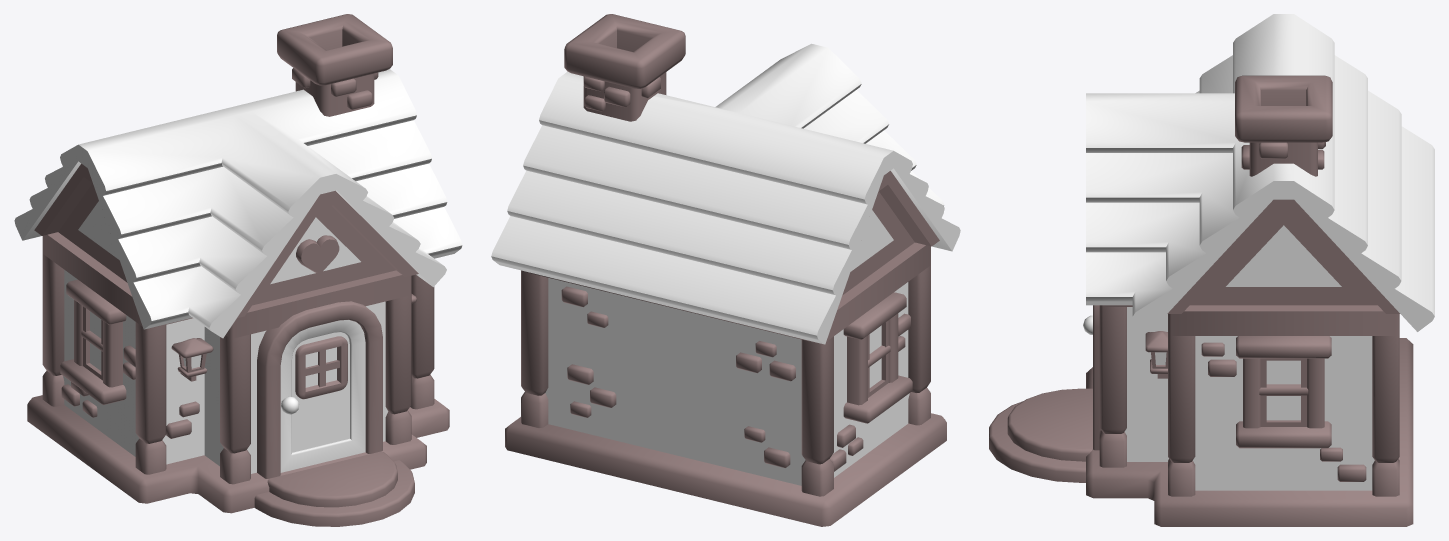
The model's file is family-house.glb.
3 renders of one model, left to right at view 1: azimuth 30°, elevation 25°; view 2: azimuth 150°, elevation 25°; view 3: azimuth 270°, elevation 25°, orthographic. The views are drawn at different scales.
Visible parts, largest first — view 1: house; view 2: house; view 3: house.
Part boxes in pixels (left/top/right/bottom): house: left=14, top=14, right=462, bottom=526; house: left=491, top=14, right=960, bottom=526; house: left=989, top=14, right=1434, bottom=526.
Bounding box in the file's own units: 5.9 × 6.5 × 6.54.
1 material, 1 textured.
